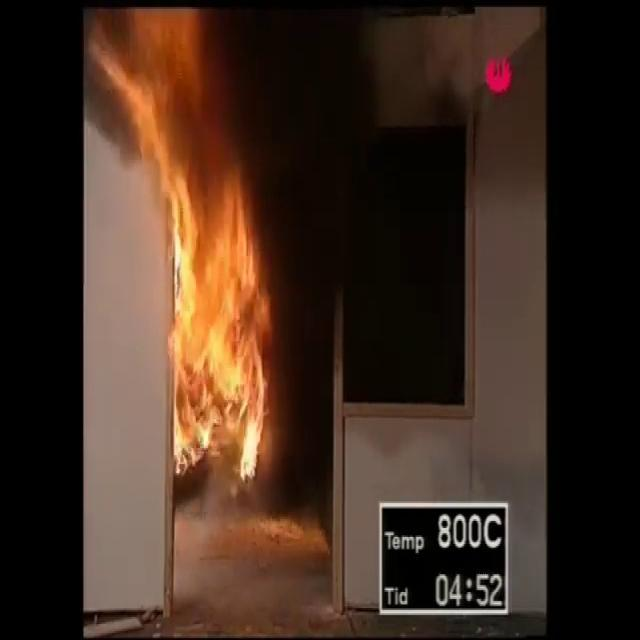Fire: (84, 7, 273, 482)
Smoke: (273, 0, 481, 337)
